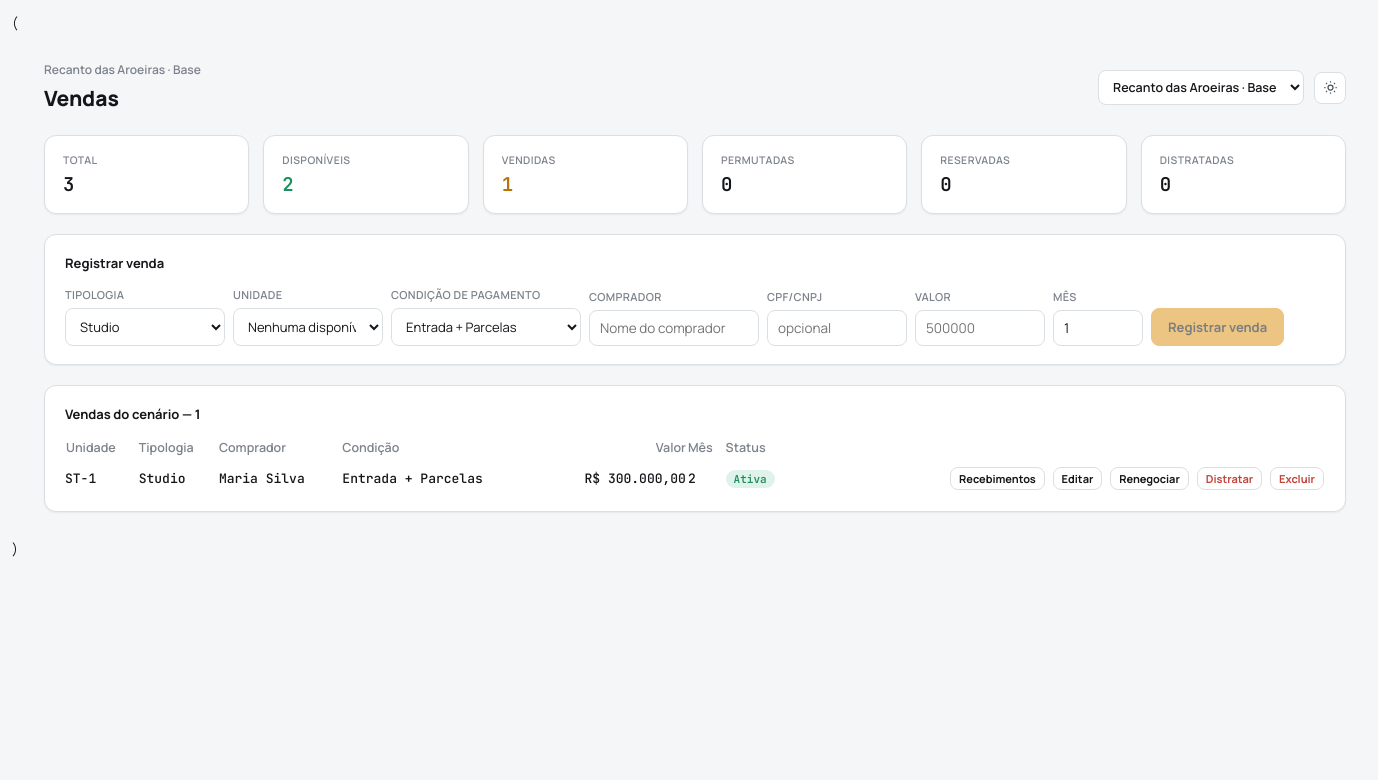
Test: VendasPage › trocar de cenário não deixa a venda do cenário anterior visível
Check: the text "Maria Silva" is shown, box top-left (218, 464), bottom-right (341, 494)
Select "Torres Alto Padrão · Base" in the 1st dropdown at (1201, 88), box top-left (1098, 70), bottom-right (1304, 105)
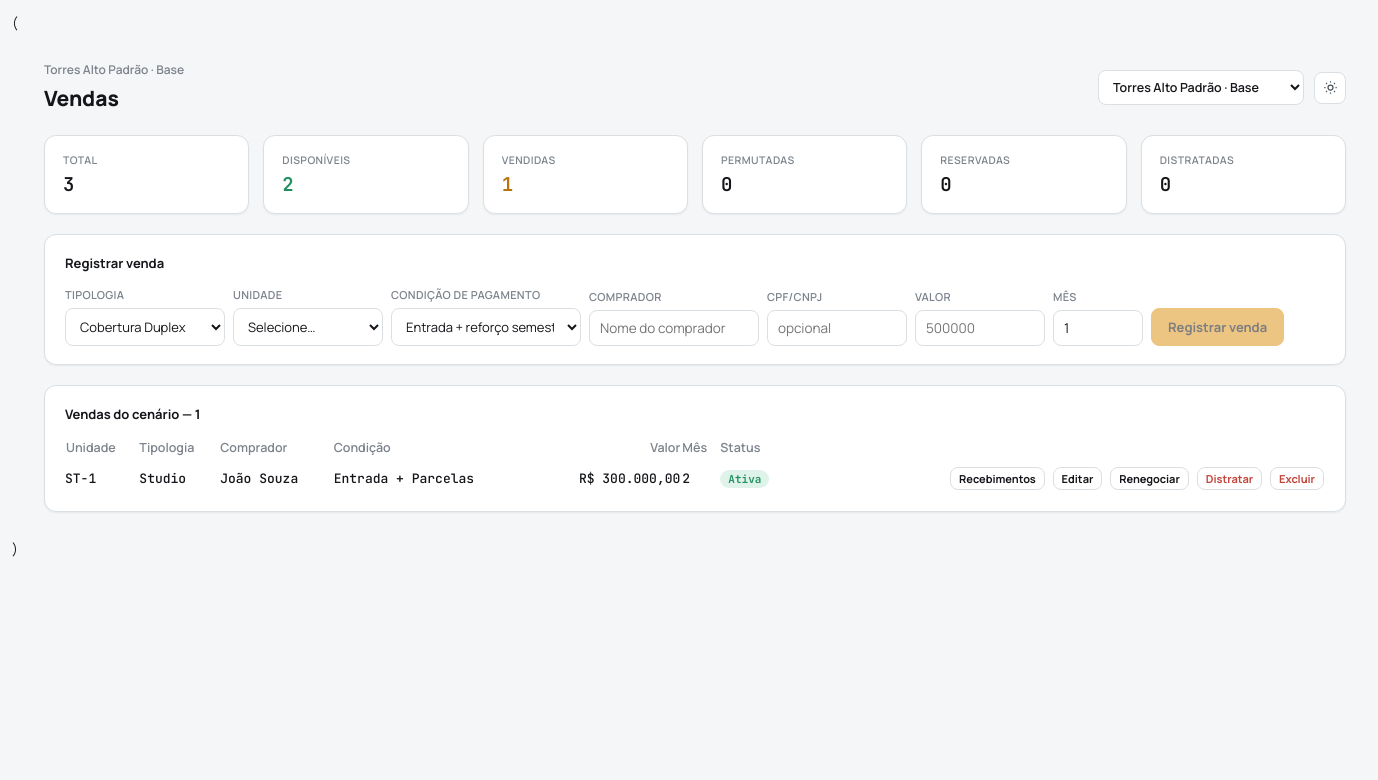
Check: the text "Maria Silva" is gone
Check: the text "João Souza" is shown, box top-left (219, 464), bottom-right (333, 494)
